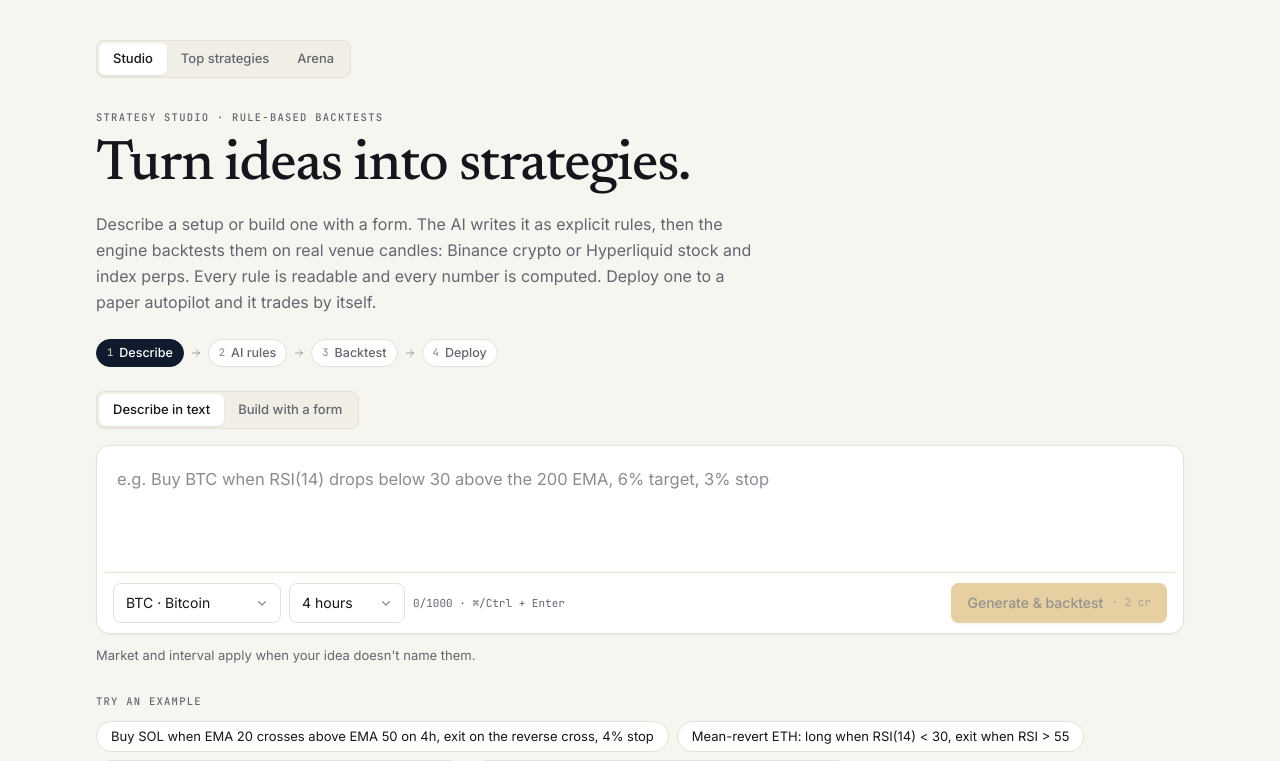
Test case: blocks invalid Fast period = 20.5 before generation
Click the button "Build with a form": (290, 410) [224,394,356,426]
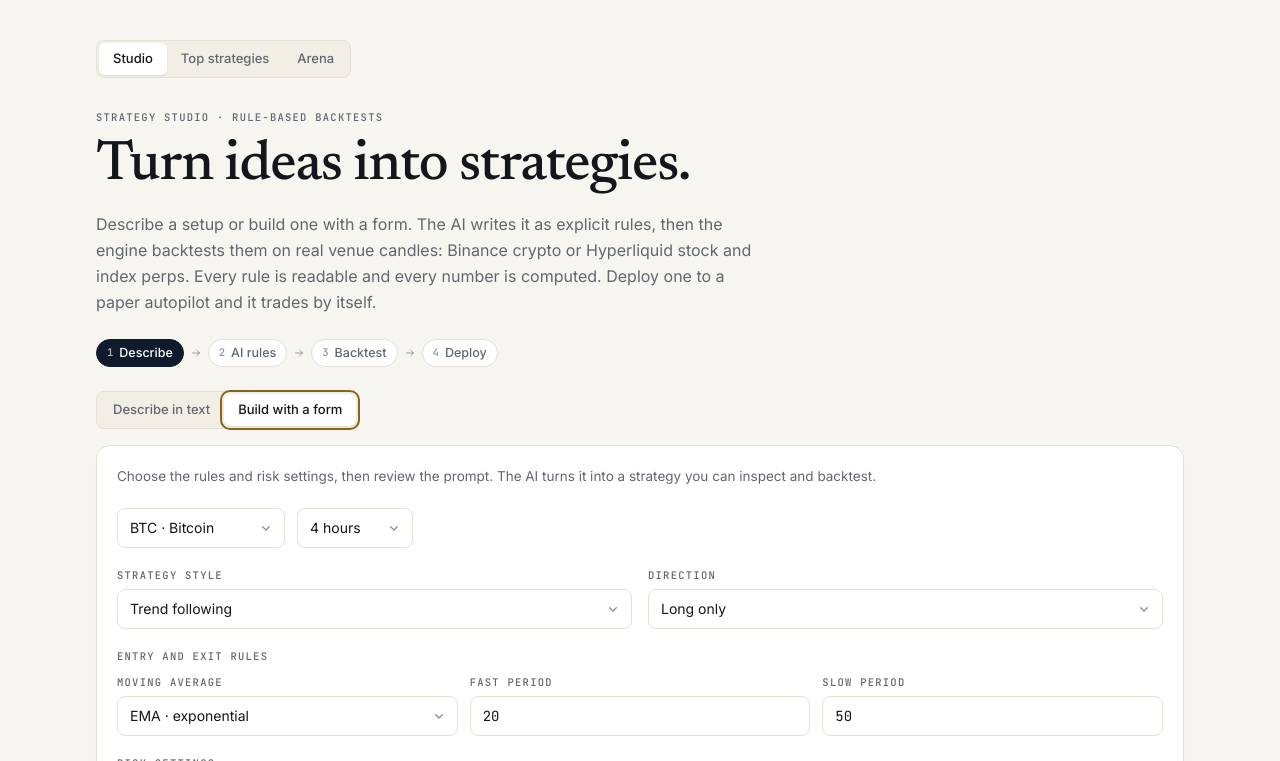
Replace the text in the number field labelled "Fast period" with "20.5": (640, 716) [470,696,810,736]
(page scrolled)
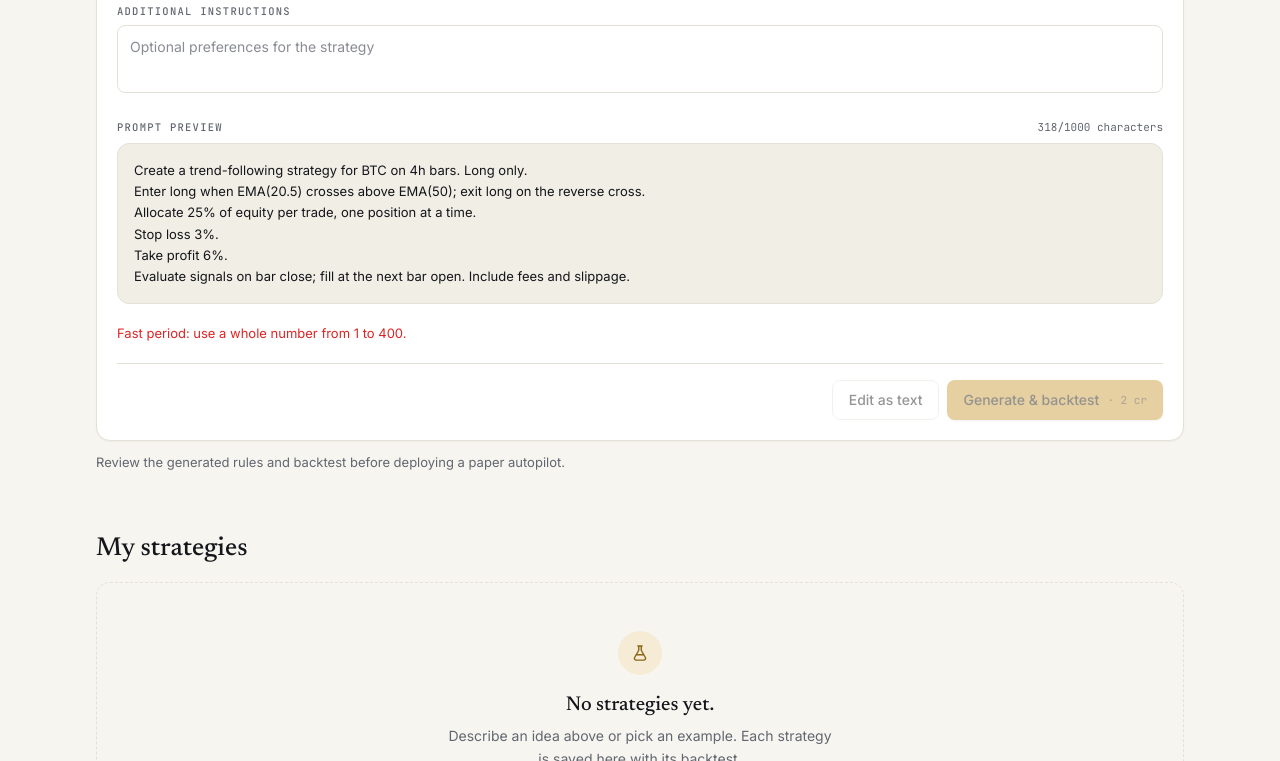
expect the message shows "whole number from 1 to 400": met, box [117,325,406,341]
expect the button "Generate & backtest · 2 cr" is disabled: met, box [948,380,1163,420]
expect the button "Edit as text" is disabled: met, box [832,380,940,420]
